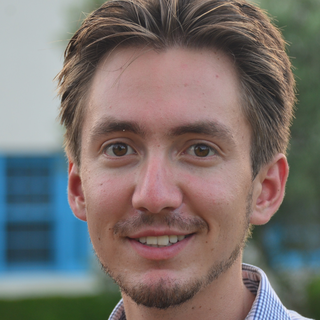eye: (177, 139, 226, 164), (96, 138, 142, 163)
